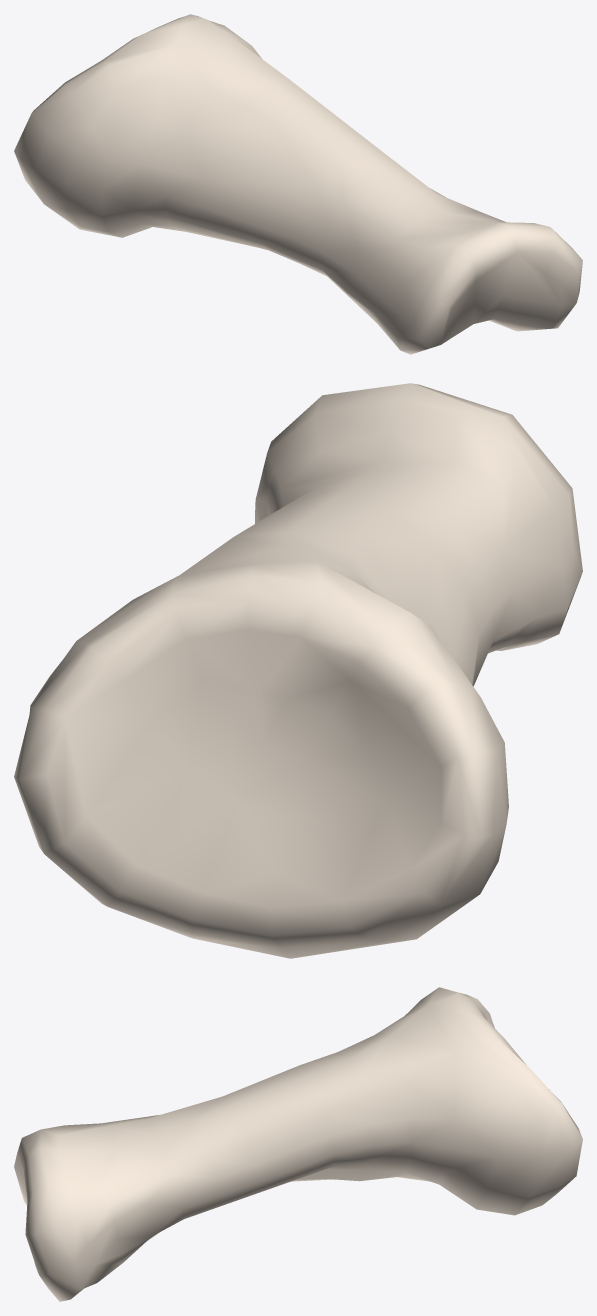
Rendered from left_toe_5_proximal.glb.
3 views of the same model, one above another, from view 1: azimuth 30°, elevation 25°; view 2: azimuth 150°, elevation 25°; view 3: azimuth 270°, elevation 25° (orthographic). The views are drawn at different scales.
Visible parts, largest first — view 1: Proximal phalanx of fifth finger of foot.r; view 2: Proximal phalanx of fifth finger of foot.r; view 3: Proximal phalanx of fifth finger of foot.r.
Boxes of the visible parts, left/top/right/bottom form: Proximal phalanx of fifth finger of foot.r: left=14, top=14, right=582, bottom=354; Proximal phalanx of fifth finger of foot.r: left=14, top=383, right=582, bottom=958; Proximal phalanx of fifth finger of foot.r: left=14, top=987, right=582, bottom=1301.
Size of the model in its own units: 0.0184 by 0.0103 by 0.0263.
